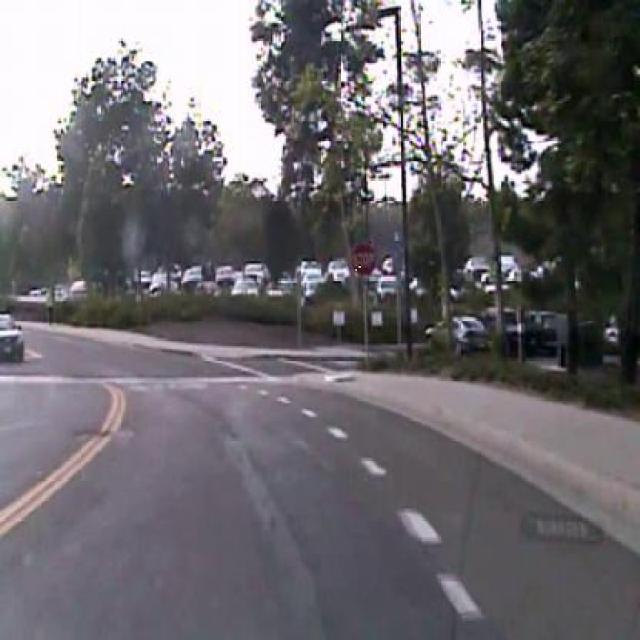stop: (349, 240, 377, 278)
